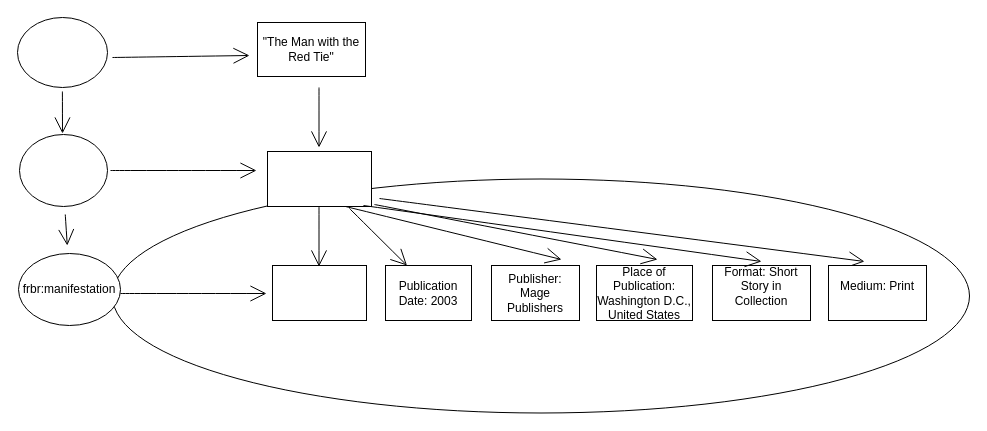
The diagram is 987 pixels wide and 431 high, and some of its shapes have lost their labels. The centre of each missing label's shape, as x and y in pixels:
English Handwritten: point (319, 178)
frbr:expression: point (63, 170)
frbr:work: point (62, 52)
Title: "First Edition": point (319, 292)
